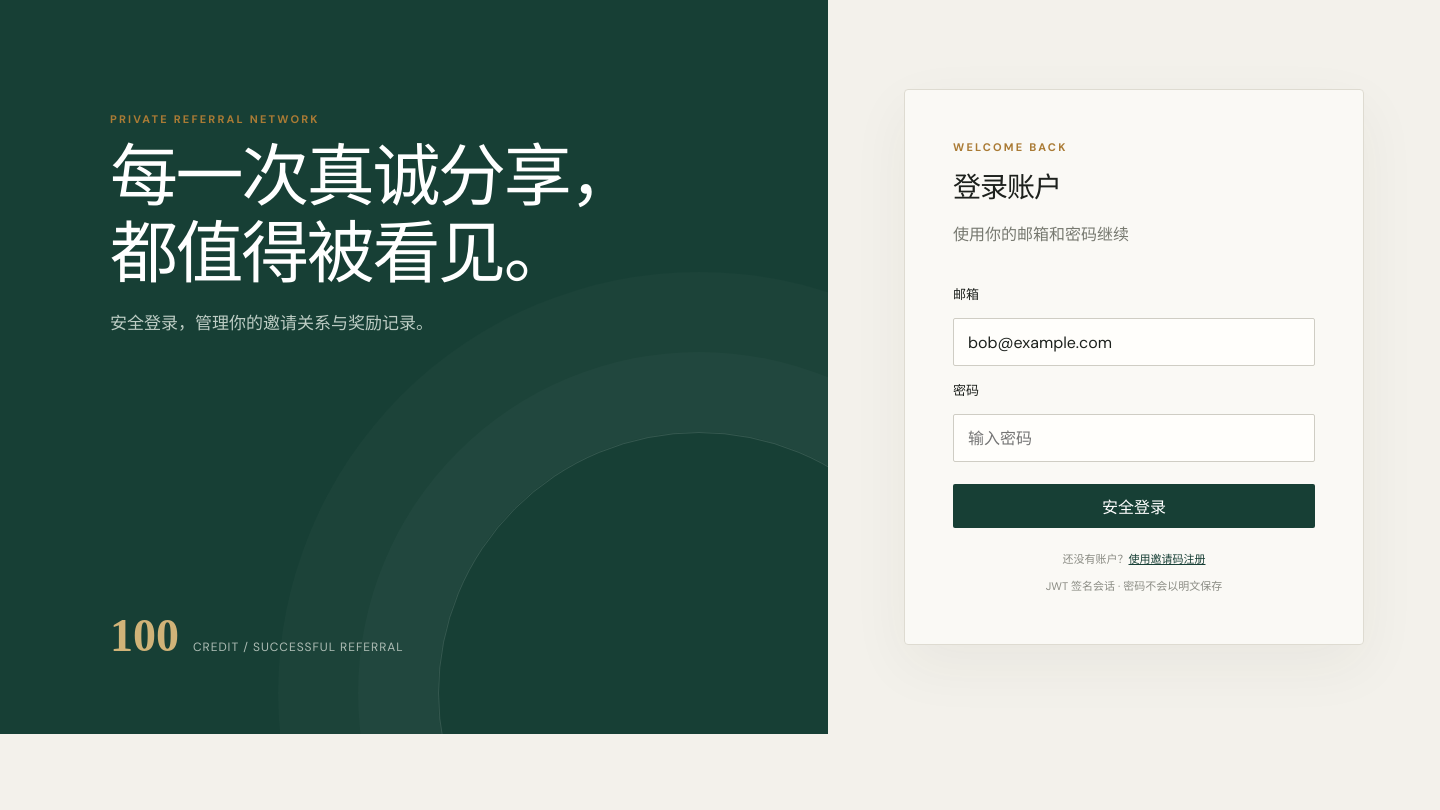
Test: logs in with a temporary password and routes to mandatory reset
The image size is (1440, 810).
Type "Temporary123" into the password field labelled "密码" at point(1134, 438), box [953, 414, 1315, 462]
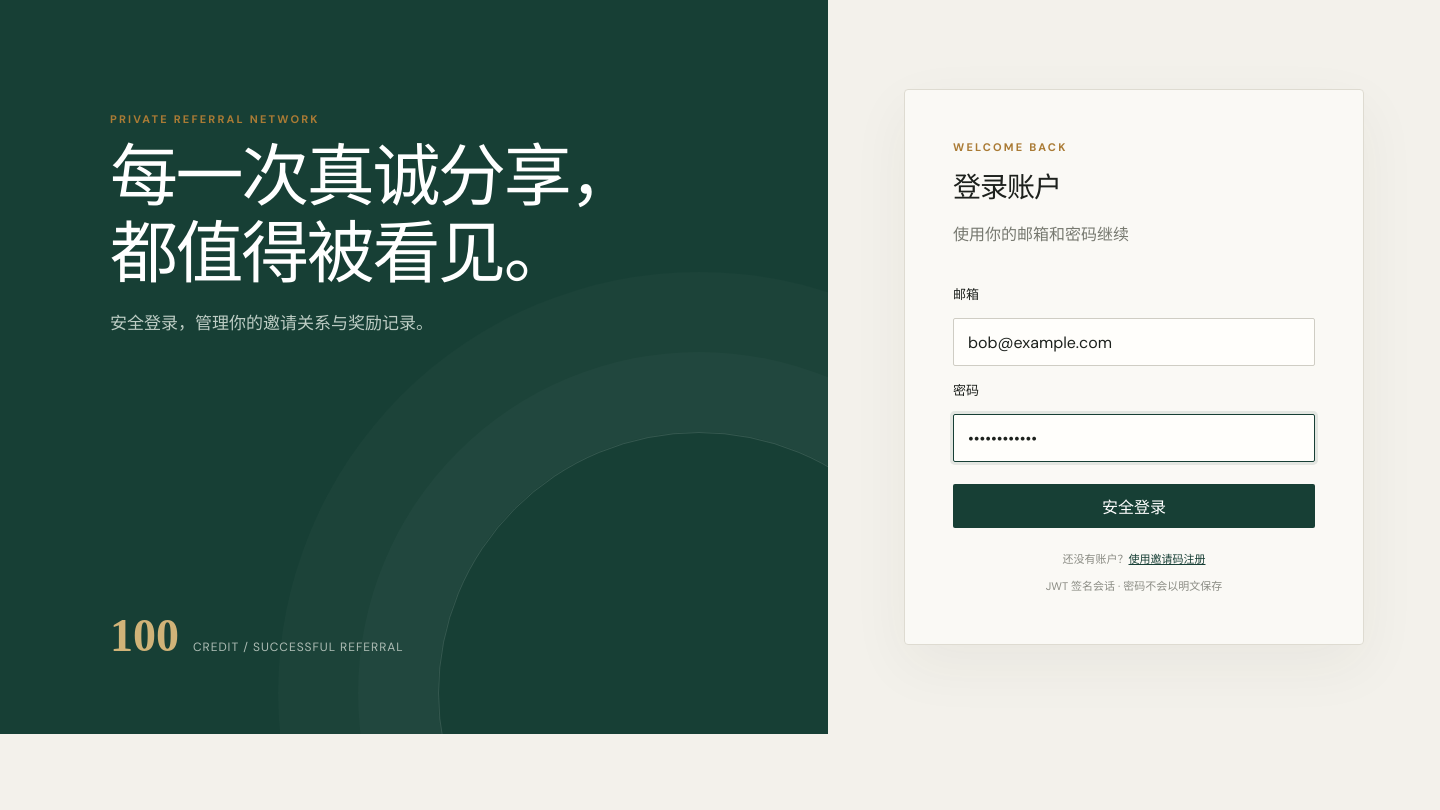
Click the button "安全登录" at point(1134, 506), box [953, 484, 1315, 528]
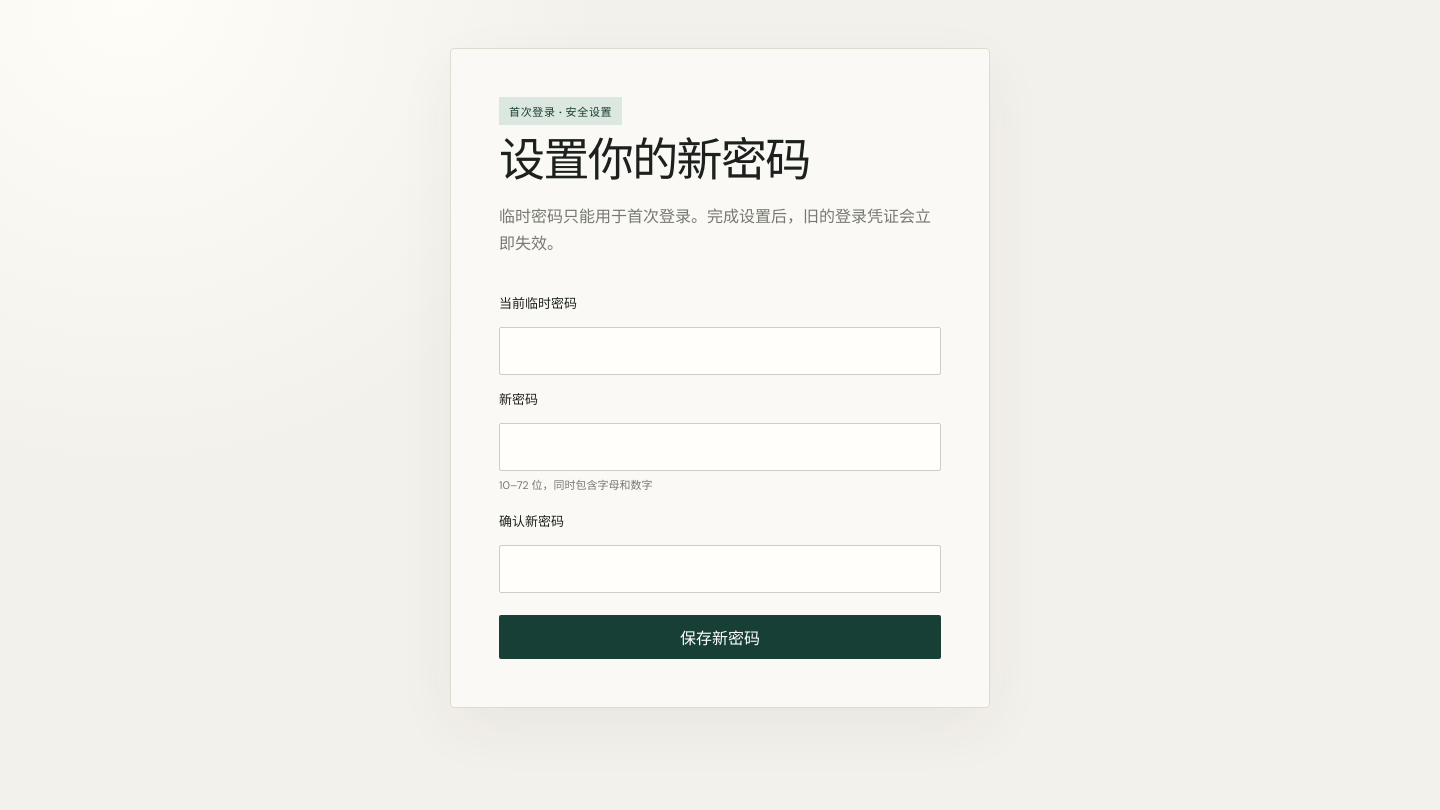
Result: the heading "设置你的新密码" is shown at [499, 135, 810, 186]
